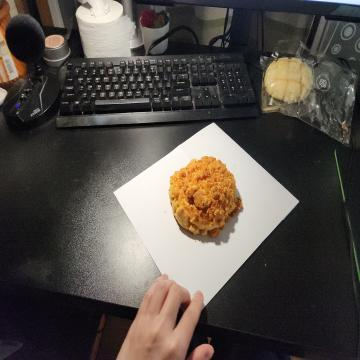soboru_bread: (166, 158, 241, 240)
